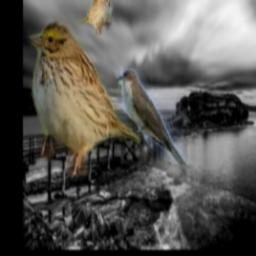Cuckoo: (117, 68, 187, 165)
Sparrow: (27, 17, 140, 177), (79, 0, 115, 36)
